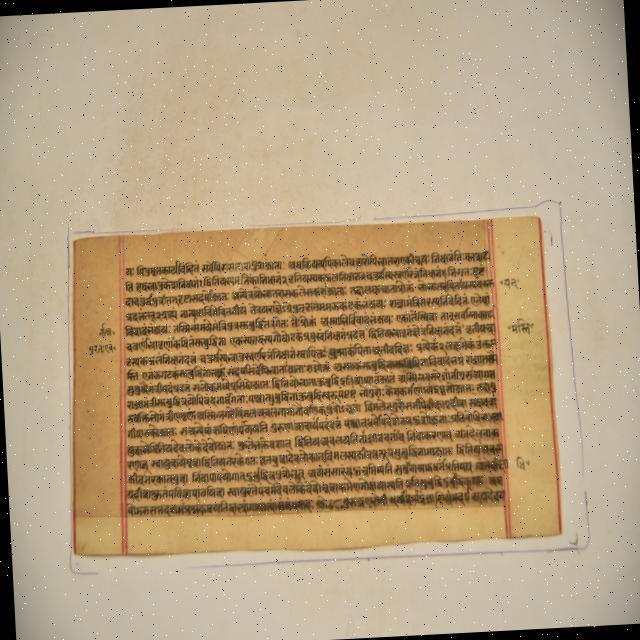text_paragraph: (72, 216, 561, 554)
